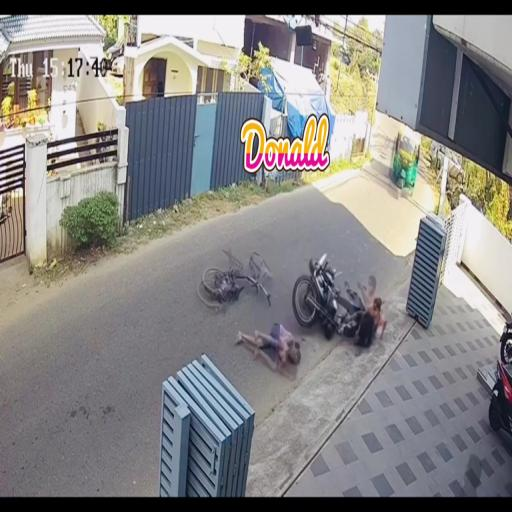小汽车: (386, 127, 420, 200)
自行车: (199, 239, 276, 311), (291, 236, 340, 336)
